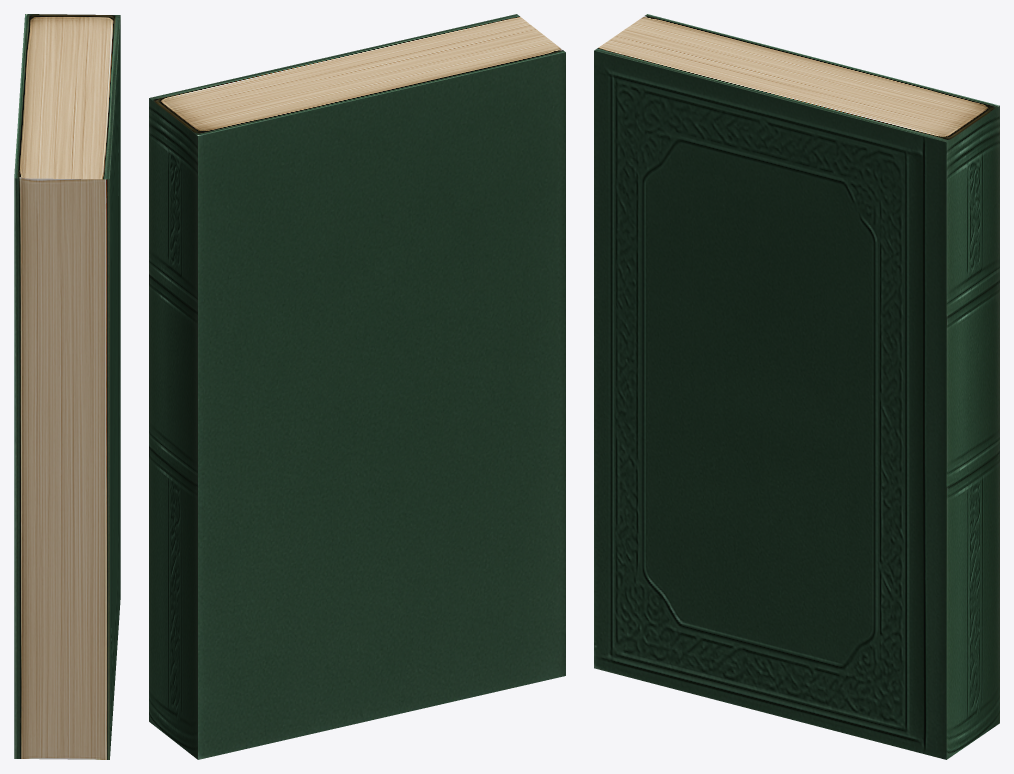
Rendered from BookGreen.glb.
3 views of the same model, side by side, from view 1: azimuth 30°, elevation 25°; view 2: azimuth 150°, elevation 25°; view 3: azimuth 270°, elevation 25° (orthographic). The views are drawn at different scales.
Visible parts, largest first — view 1: Books1.019; view 2: Books1.019; view 3: Books1.019.
Part boxes in pixels (x1,y1,x2,y2): Books1.019: [14, 14, 120, 759]; Books1.019: [149, 14, 565, 759]; Books1.019: [594, 14, 999, 759].
Bounding box in the file's own units: 0.0856 × 0.1921 × 0.1145.
Materials: 1 (1 with a texture image).
